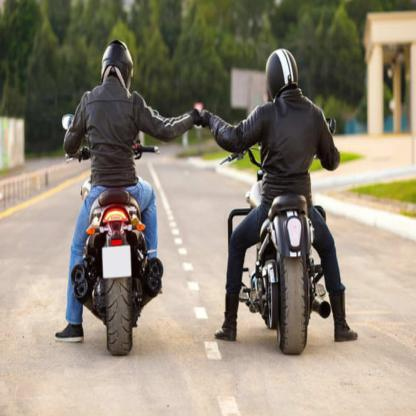helmet: (265, 48, 300, 104), (100, 39, 134, 93)
